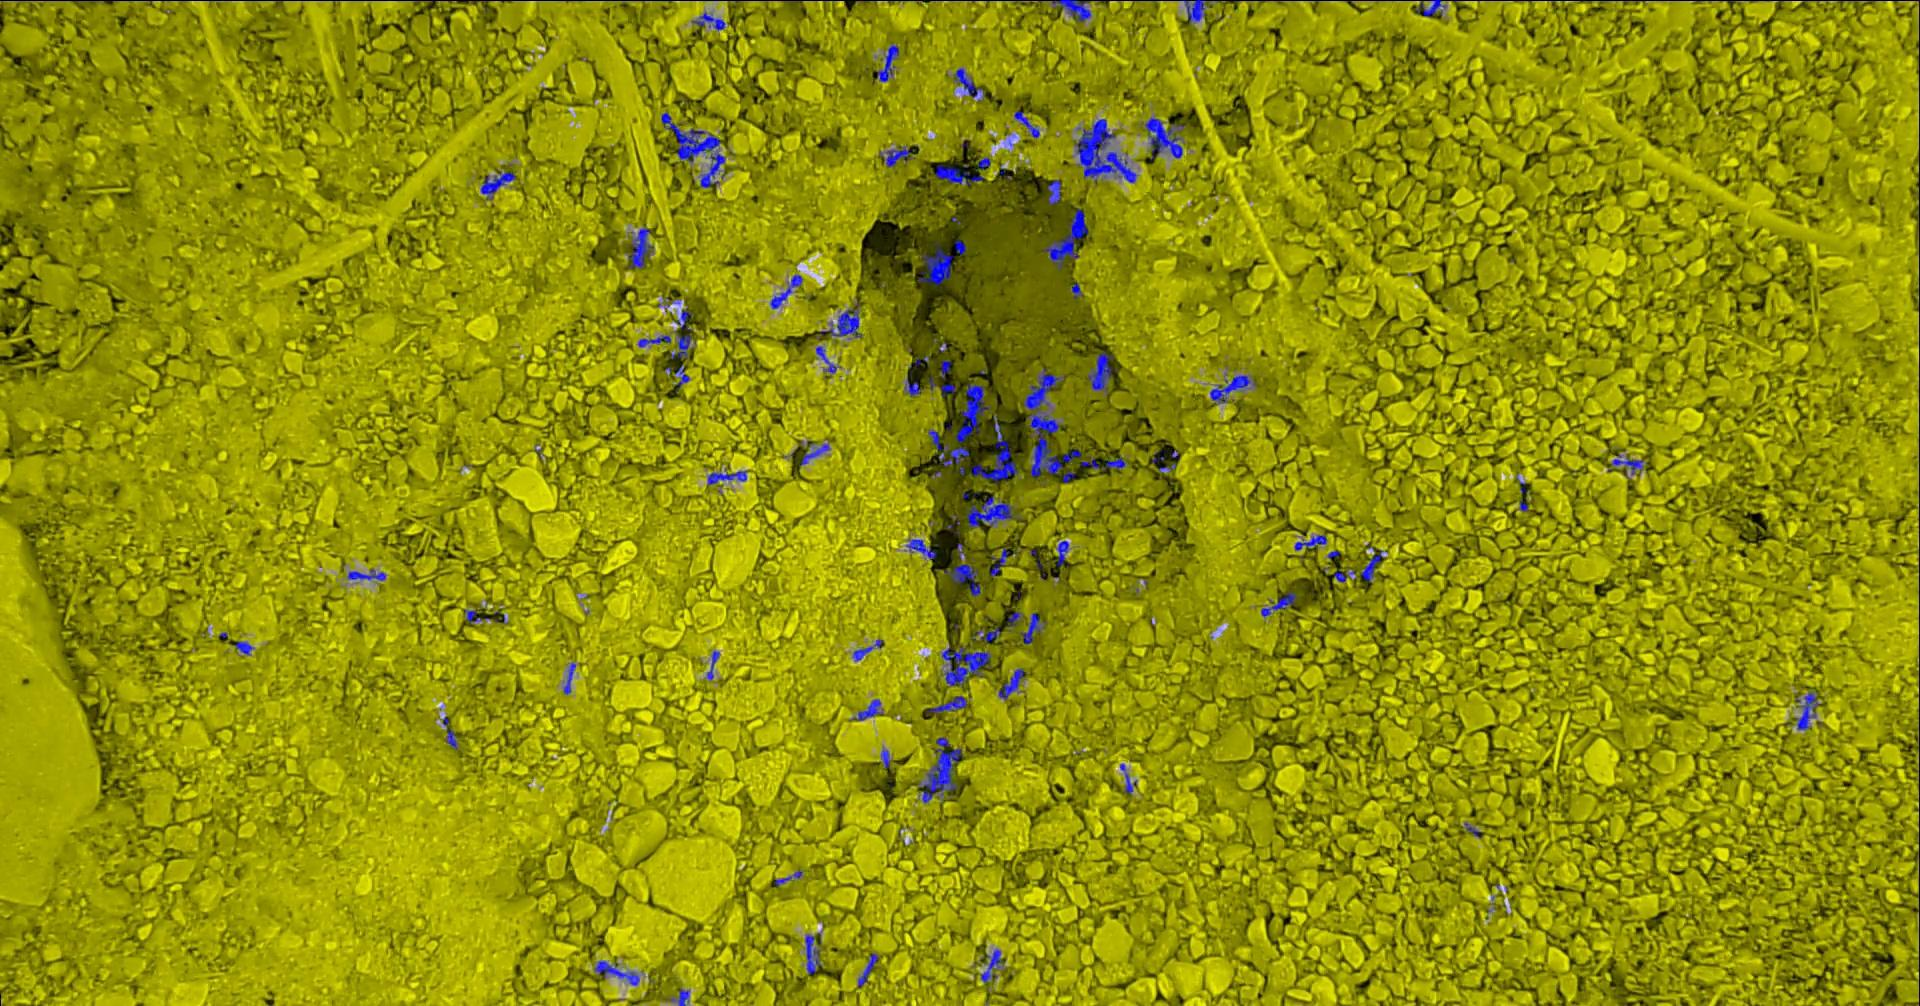ant: (971, 413, 1018, 483), (1043, 208, 1088, 269), (940, 644, 990, 685), (966, 495, 1021, 527), (1144, 117, 1185, 159), (819, 302, 861, 337), (1209, 375, 1255, 404), (919, 245, 952, 285), (943, 563, 980, 596), (935, 163, 983, 185), (593, 960, 639, 984), (770, 274, 803, 307), (1087, 351, 1112, 392), (952, 67, 984, 100), (480, 170, 516, 199), (627, 227, 653, 268), (872, 43, 899, 81), (1260, 591, 1297, 616), (1018, 612, 1046, 644), (1796, 691, 1818, 729), (1051, 0, 1090, 22), (998, 668, 1025, 699), (980, 948, 1003, 983), (924, 695, 966, 713), (877, 146, 913, 166), (804, 934, 822, 974), (850, 699, 883, 720), (989, 547, 1015, 575), (1611, 453, 1646, 474), (852, 638, 883, 661), (1360, 549, 1382, 580), (1013, 111, 1039, 137), (669, 333, 695, 359), (707, 467, 745, 485), (857, 953, 877, 986), (1181, 0, 1211, 22), (799, 443, 829, 465), (905, 537, 936, 559), (815, 345, 838, 373), (691, 11, 724, 30), (665, 365, 690, 387), (1294, 533, 1326, 550), (442, 715, 457, 749), (1119, 763, 1137, 793), (1415, 0, 1445, 17), (347, 568, 385, 580), (673, 307, 692, 330), (775, 870, 803, 885), (637, 334, 670, 347), (971, 627, 1001, 641), (563, 662, 575, 694), (706, 650, 719, 680), (665, 989, 690, 1005), (1006, 611, 1023, 631), (904, 375, 921, 396), (1055, 539, 1068, 565), (1079, 456, 1103, 470), (1048, 179, 1060, 205), (234, 640, 254, 654), (1105, 455, 1126, 467), (463, 608, 481, 622), (1333, 570, 1355, 582), (938, 359, 950, 379), (938, 384, 955, 396), (880, 748, 890, 768), (975, 158, 990, 170), (954, 240, 966, 255), (1070, 282, 1082, 298)
